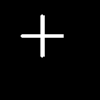single_crochet: (21, 15, 62, 56)
